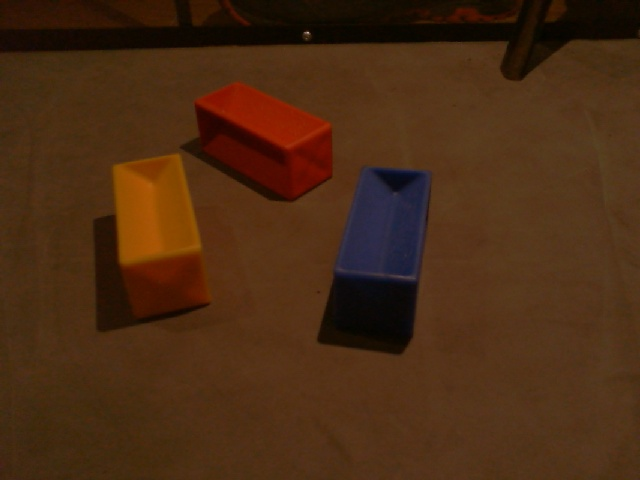BlueSample: (330, 161, 432, 333)
RedSample: (194, 83, 334, 204)
YellowSample: (106, 153, 214, 321)
